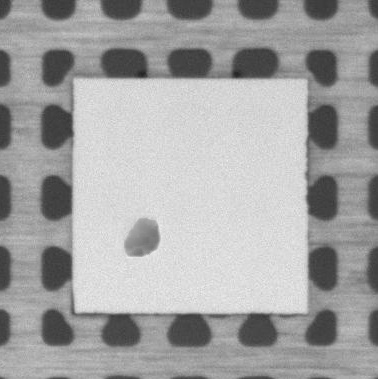DIE_INK: (117, 211, 167, 265)
